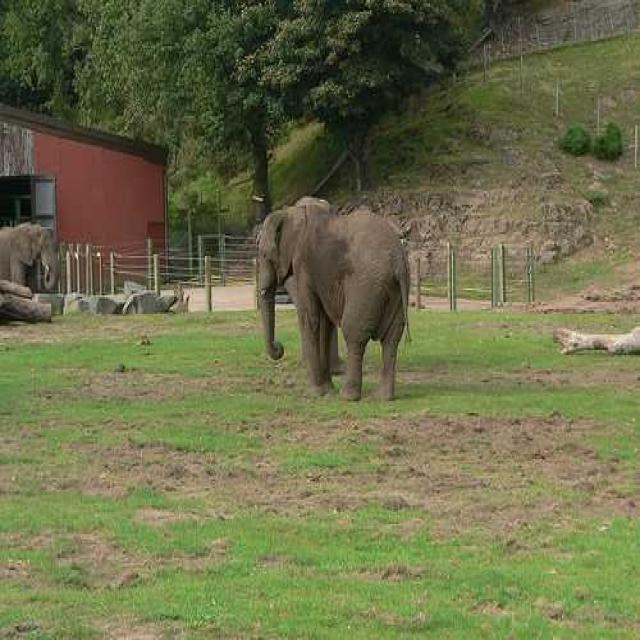Elephant: (255, 195, 411, 401), (0, 220, 60, 294)
